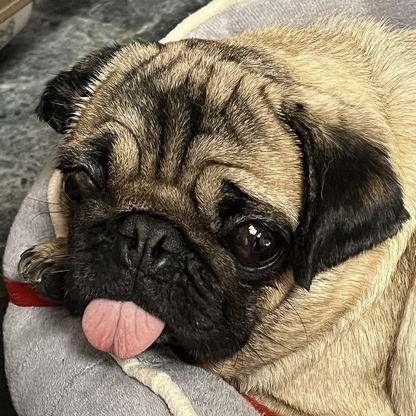Pug: (12, 15, 416, 416)
